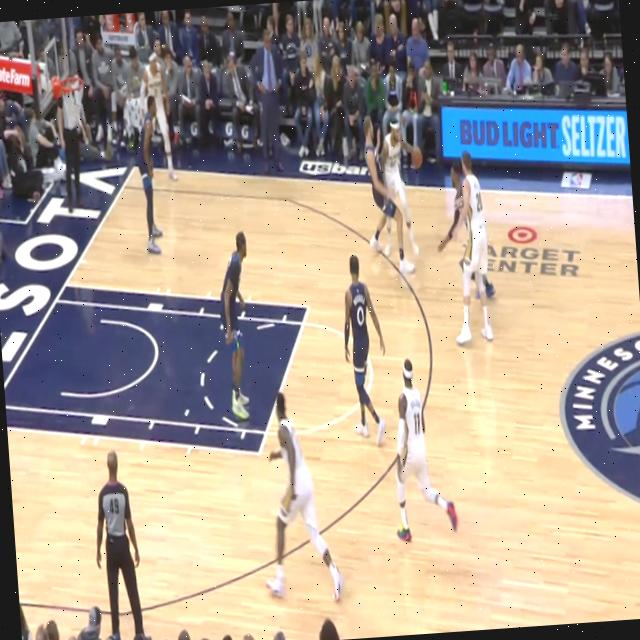Foul: (356, 108, 424, 279)
